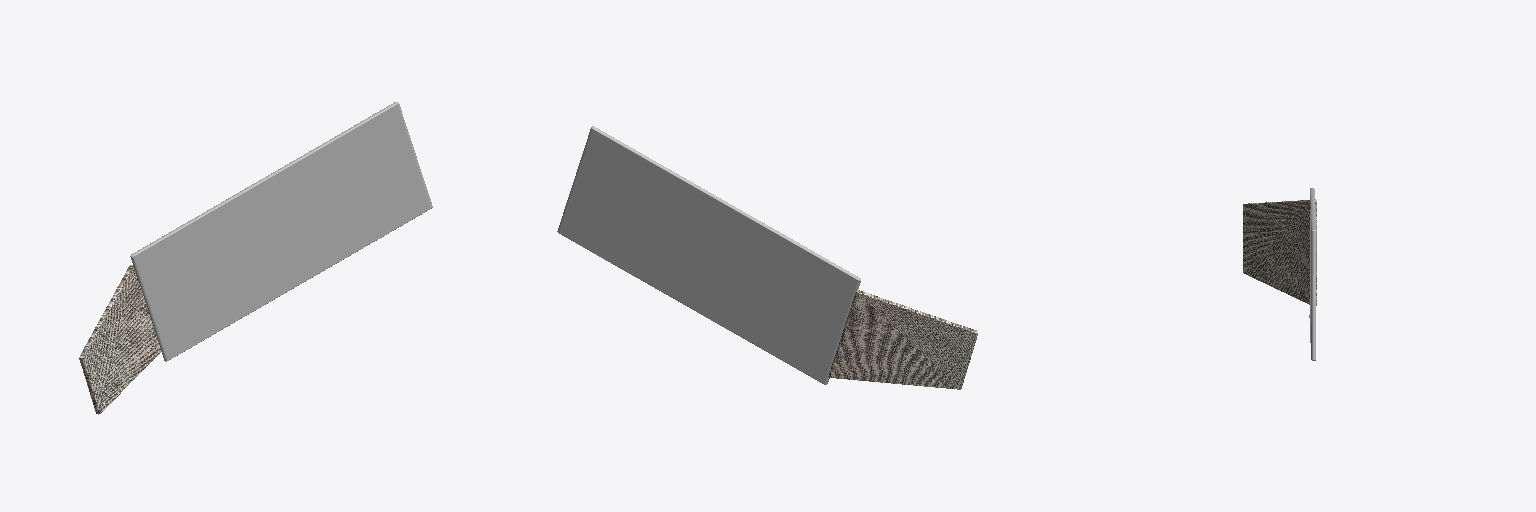
The picture shows the model from 3 angles: view 1: azimuth 30°, elevation 25°; view 2: azimuth 150°, elevation 25°; view 3: azimuth 270°, elevation 25°; orthographic projection.
Parts seen in each view (by area): view 1: cama_almofada.002; view 2: cama_almofada.002; view 3: cama_almofada.002.
Boxes of the visible parts, x1=… form: cama_almofada.002: x1=79, y1=102, x2=432, y2=414; cama_almofada.002: x1=557, y1=126, x2=977, y2=389; cama_almofada.002: x1=1243, y1=188, x2=1316, y2=360.
Bounding box in the file's own units: 4.12 × 2.1 × 0.6821.
2 materials, 1 textured.